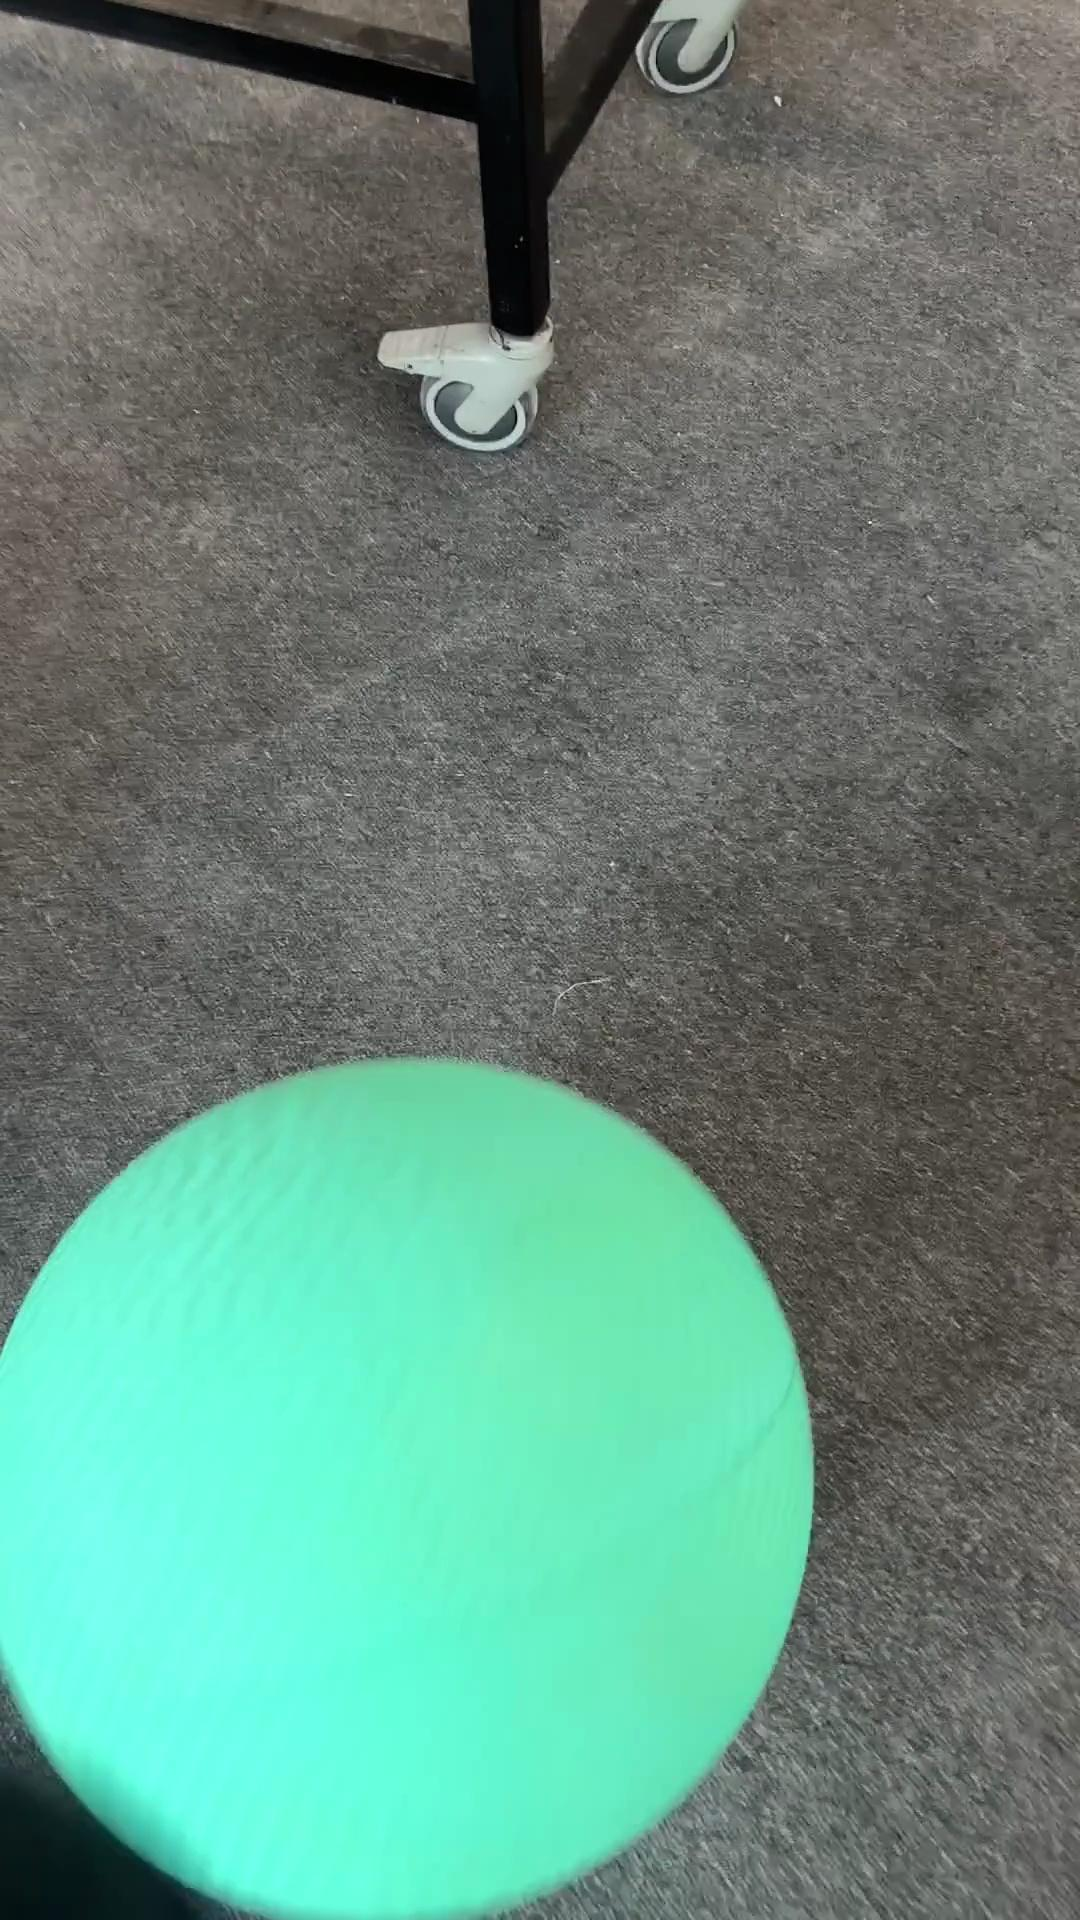ALGAE: (1, 1052, 818, 1916)
